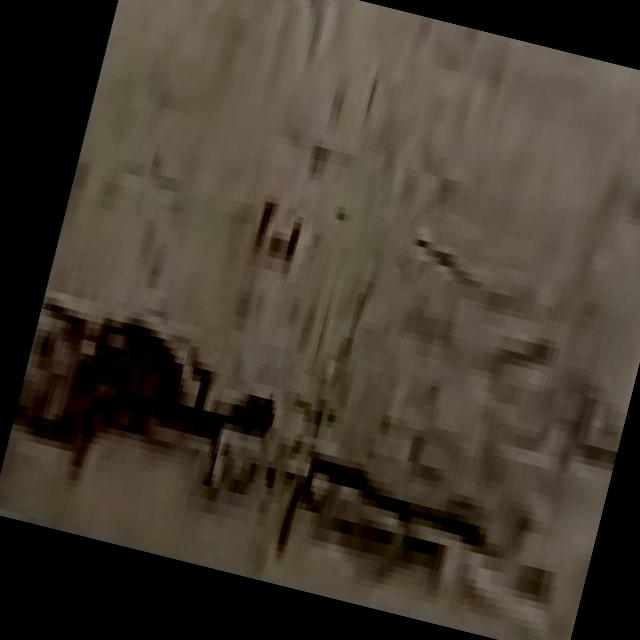crack: (218, 395, 496, 603), (25, 312, 198, 443)
